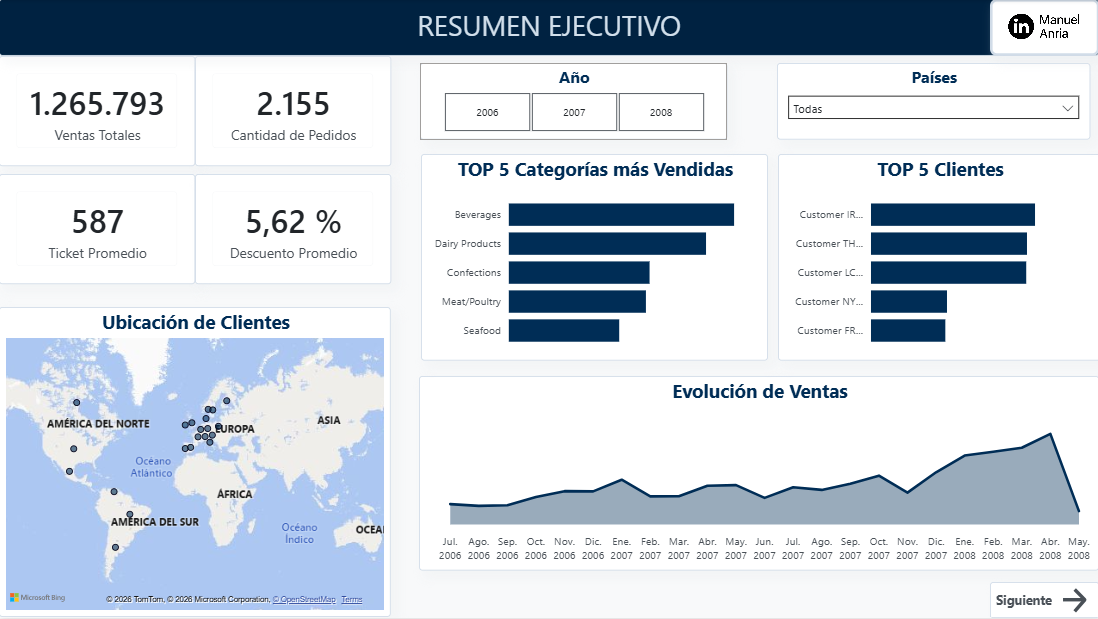

What the dashboard file says about the page in this screenshot:
{"tool":"powerbi","page":{"name":"Resumen Ejecutivo","canvas":[1280,720],"ordinal":0},"visuals":[{"type":"cardVisual","fields":{"Data":["Sum(northwind view_hechos_ventas.Total_Neto)"]},"box":[0,66.2,227.7,127.8],"z":0},{"type":"map","title":"Ubicación de Clientes","fields":{"Category":["northwind view_hechos_ventas.Pais_Cliente"]},"box":[0,357.7,455.3,360.1],"z":1000},{"type":"areaChart","title":"Evolución de Ventas","fields":{"Y":["Sum(northwind view_hechos_ventas.Total_Neto)"],"Category":["Calendario.Mes y Año"]},"box":[487.8,437.9,789.8,226.5],"z":2000},{"type":"barChart","title":"TOP 5 Categorías más Vendidas","fields":{"Y":["Sum(northwind view_hechos_ventas.Total_Neto)"],"Category":["northwind view_hechos_ventas.Categoria"]},"box":[490.2,180,403,240.4],"z":3000},{"type":"cardVisual","fields":{"Data":["CountNonNull(northwind view_hechos_ventas.orderId)"]},"box":[227.7,66.2,227.7,127.8],"z":4000},{"type":"cardVisual","fields":{"Data":["Avg(northwind view_hechos_ventas.Total_Neto)"]},"box":[0,203.3,227.7,127.8],"z":5000},{"type":"cardVisual","fields":{"Data":["Avg(northwind view_hechos_ventas.Descuento)"]},"box":[227.7,203.3,227.7,127.8],"z":6000},{"type":"barChart","title":"TOP 5 Clientes","fields":{"Y":["Sum(northwind view_hechos_ventas.Total_Neto)"],"Category":["northwind view_hechos_ventas.Cliente"]},"box":[904.8,180,375.2,240.4],"z":7000},{"type":"textbox","box":[0,0,1277.7,66.2],"z":7500},{"type":"slicer","title":"Año","fields":{"Values":["Calendario.Año"]},"box":[489,74.3,356.6,89.4],"z":8000},{"type":"slicer","title":"Países","fields":{"Values":["northwind view_segmentacion_clientes.Pais"]},"box":[903.7,74.3,363.6,89.4],"z":9000},{"type":"actionButton","title":"Página Siguiente","box":[1151.1,677.2,126.6,43],"z":10000},{"type":"image","box":[1151.1,0,126.6,66.2],"z":12000}]}

Visuals, with their boxes in screenshot pixels (x1, y1, x2, y2), scaled from the page's 1280x720 canvas onto the 1098x619 screenshot:
cardVisual - Sum(northwind view_hechos_ventas.Total_Neto): pyautogui.locateOnScreen(0, 57, 195, 167)
"Ubicación de Clientes" map: pyautogui.locateOnScreen(0, 308, 391, 617)
"Evolución de Ventas" areaChart: pyautogui.locateOnScreen(418, 376, 1096, 571)
"TOP 5 Categorías más Vendidas" barChart: pyautogui.locateOnScreen(420, 155, 766, 361)
cardVisual - CountNonNull(northwind view_hechos_ventas.orderId): pyautogui.locateOnScreen(195, 57, 391, 167)
cardVisual - Avg(northwind view_hechos_ventas.Total_Neto): pyautogui.locateOnScreen(0, 175, 195, 285)
cardVisual - Avg(northwind view_hechos_ventas.Descuento): pyautogui.locateOnScreen(195, 175, 391, 285)
"TOP 5 Clientes" barChart: pyautogui.locateOnScreen(776, 155, 1097, 361)
textbox: pyautogui.locateOnScreen(0, 0, 1096, 57)
"Año" slicer: pyautogui.locateOnScreen(419, 64, 725, 141)
"Países" slicer: pyautogui.locateOnScreen(775, 64, 1087, 141)
"Página Siguiente" actionButton: pyautogui.locateOnScreen(987, 582, 1096, 618)
image: pyautogui.locateOnScreen(987, 0, 1096, 57)
